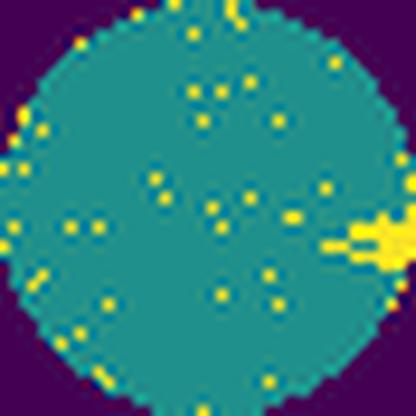Edge-Loc: (318, 197, 416, 271)
